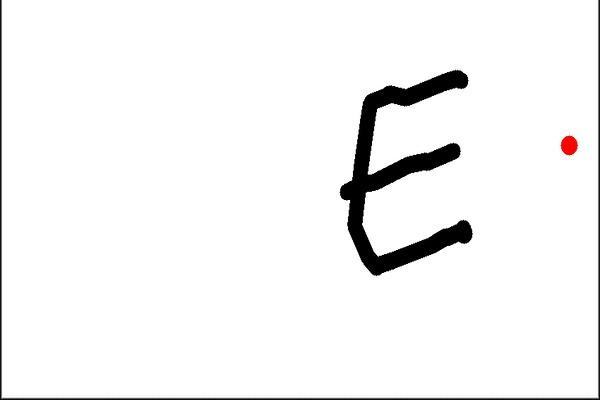E: (334, 67, 482, 278)
